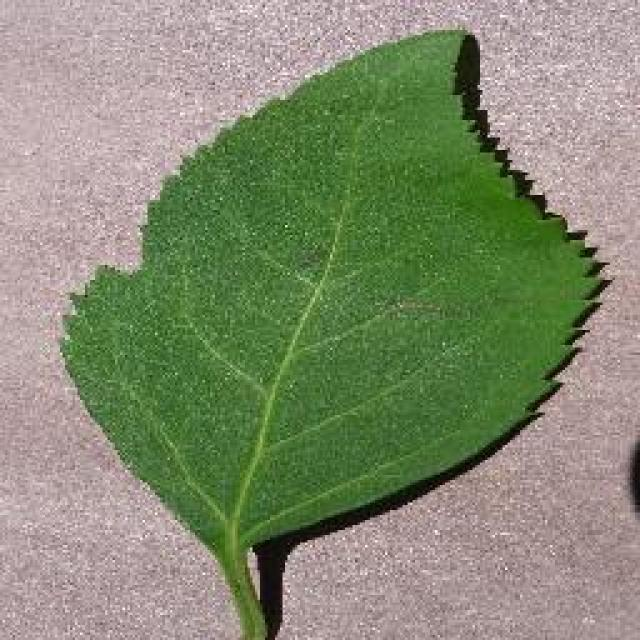Cherry___healthy: (47, 12, 615, 640)
